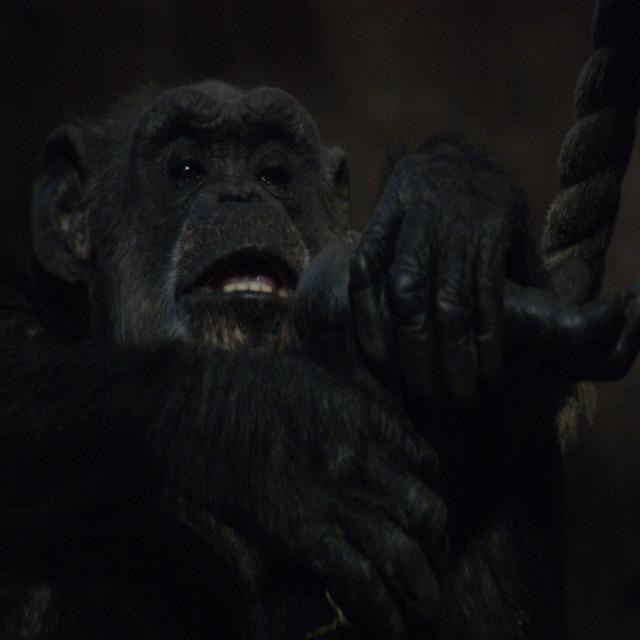Monkey: (31, 73, 564, 603)
